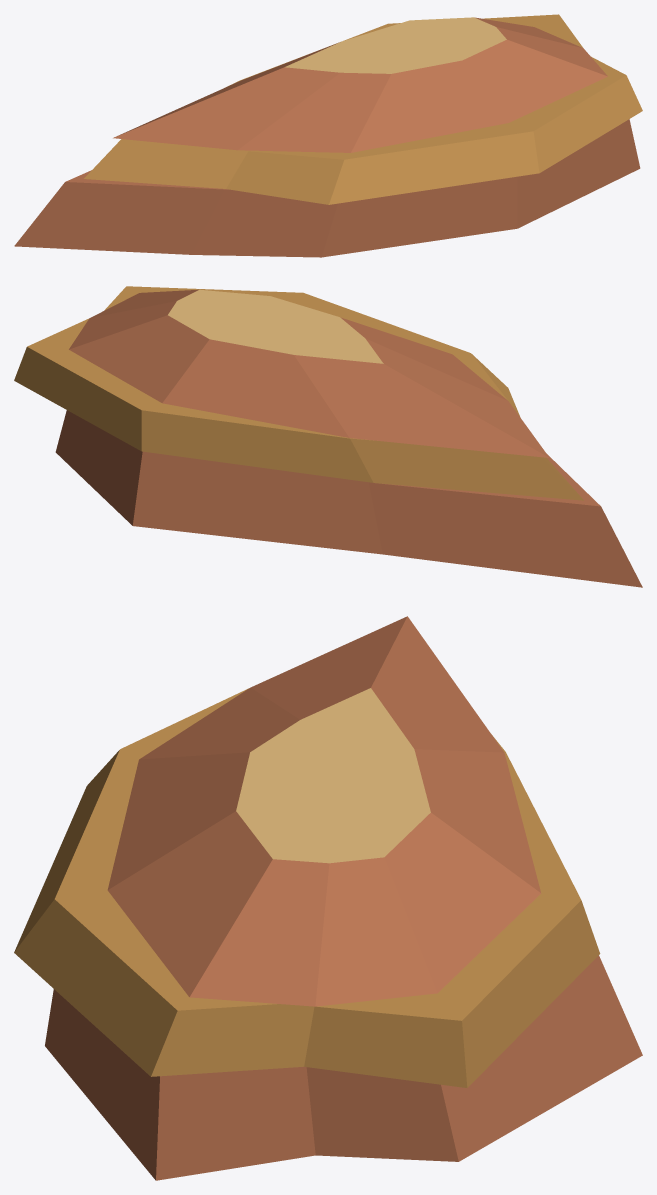
The model's file is rock_slab.glb.
3 views of the same model, one above another, from view 1: azimuth 30°, elevation 25°; view 2: azimuth 150°, elevation 25°; view 3: azimuth 270°, elevation 25° (orthographic). The views are drawn at different scales.
Visible parts, largest first — view 1: rock_slab; view 2: rock_slab; view 3: rock_slab.
Boxes of the visible parts, bbox=[...] form: rock_slab: bbox=[14, 14, 642, 257]; rock_slab: bbox=[14, 286, 642, 587]; rock_slab: bbox=[14, 616, 642, 1180].
Bounding box in the file's own units: 0.9088 × 0.2 × 0.4889.
